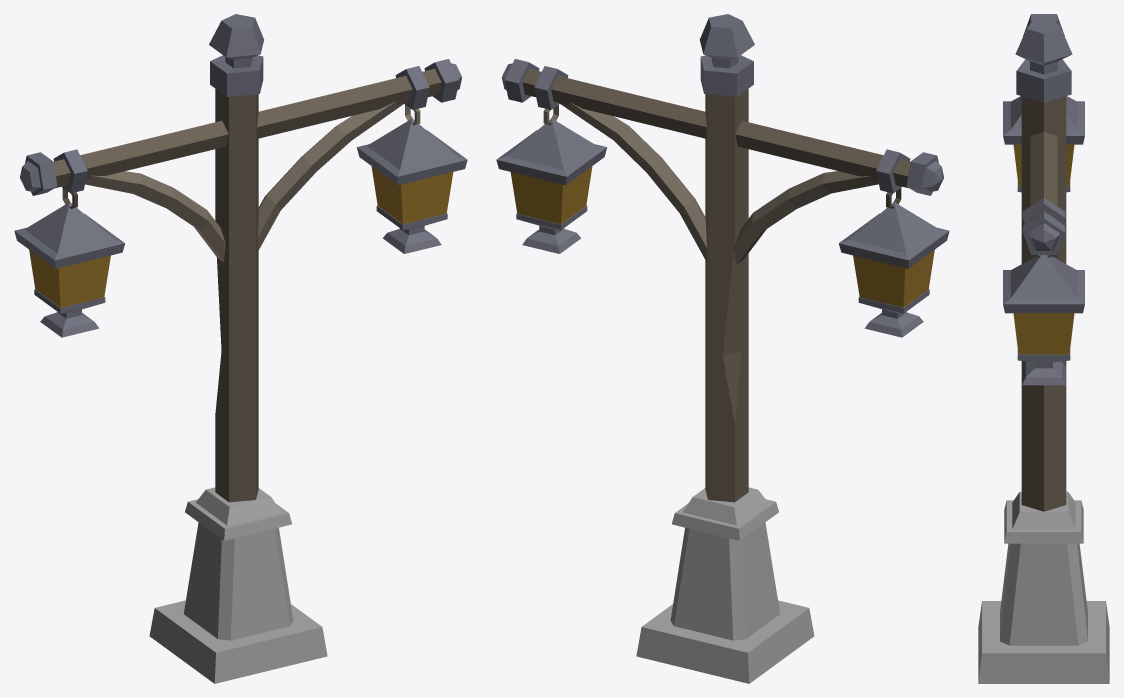
File: Lamp.glb
The picture shows the model from 3 angles, left to right: view 1: azimuth 30°, elevation 25°; view 2: azimuth 150°, elevation 25°; view 3: azimuth 270°, elevation 25°; orthographic projection.
Parts seen in each view (by area): view 1: Lamp_2; view 2: Lamp_2; view 3: Lamp_2.
Part boxes in pixels (x1,y1,x2,y2): Lamp_2: (14,14,467,683); Lamp_2: (496,14,949,683); Lamp_2: (978,14,1109,683).
Size of the model in its own units: 2.12 by 2.89 by 0.5472.
1 material, 1 textured.
